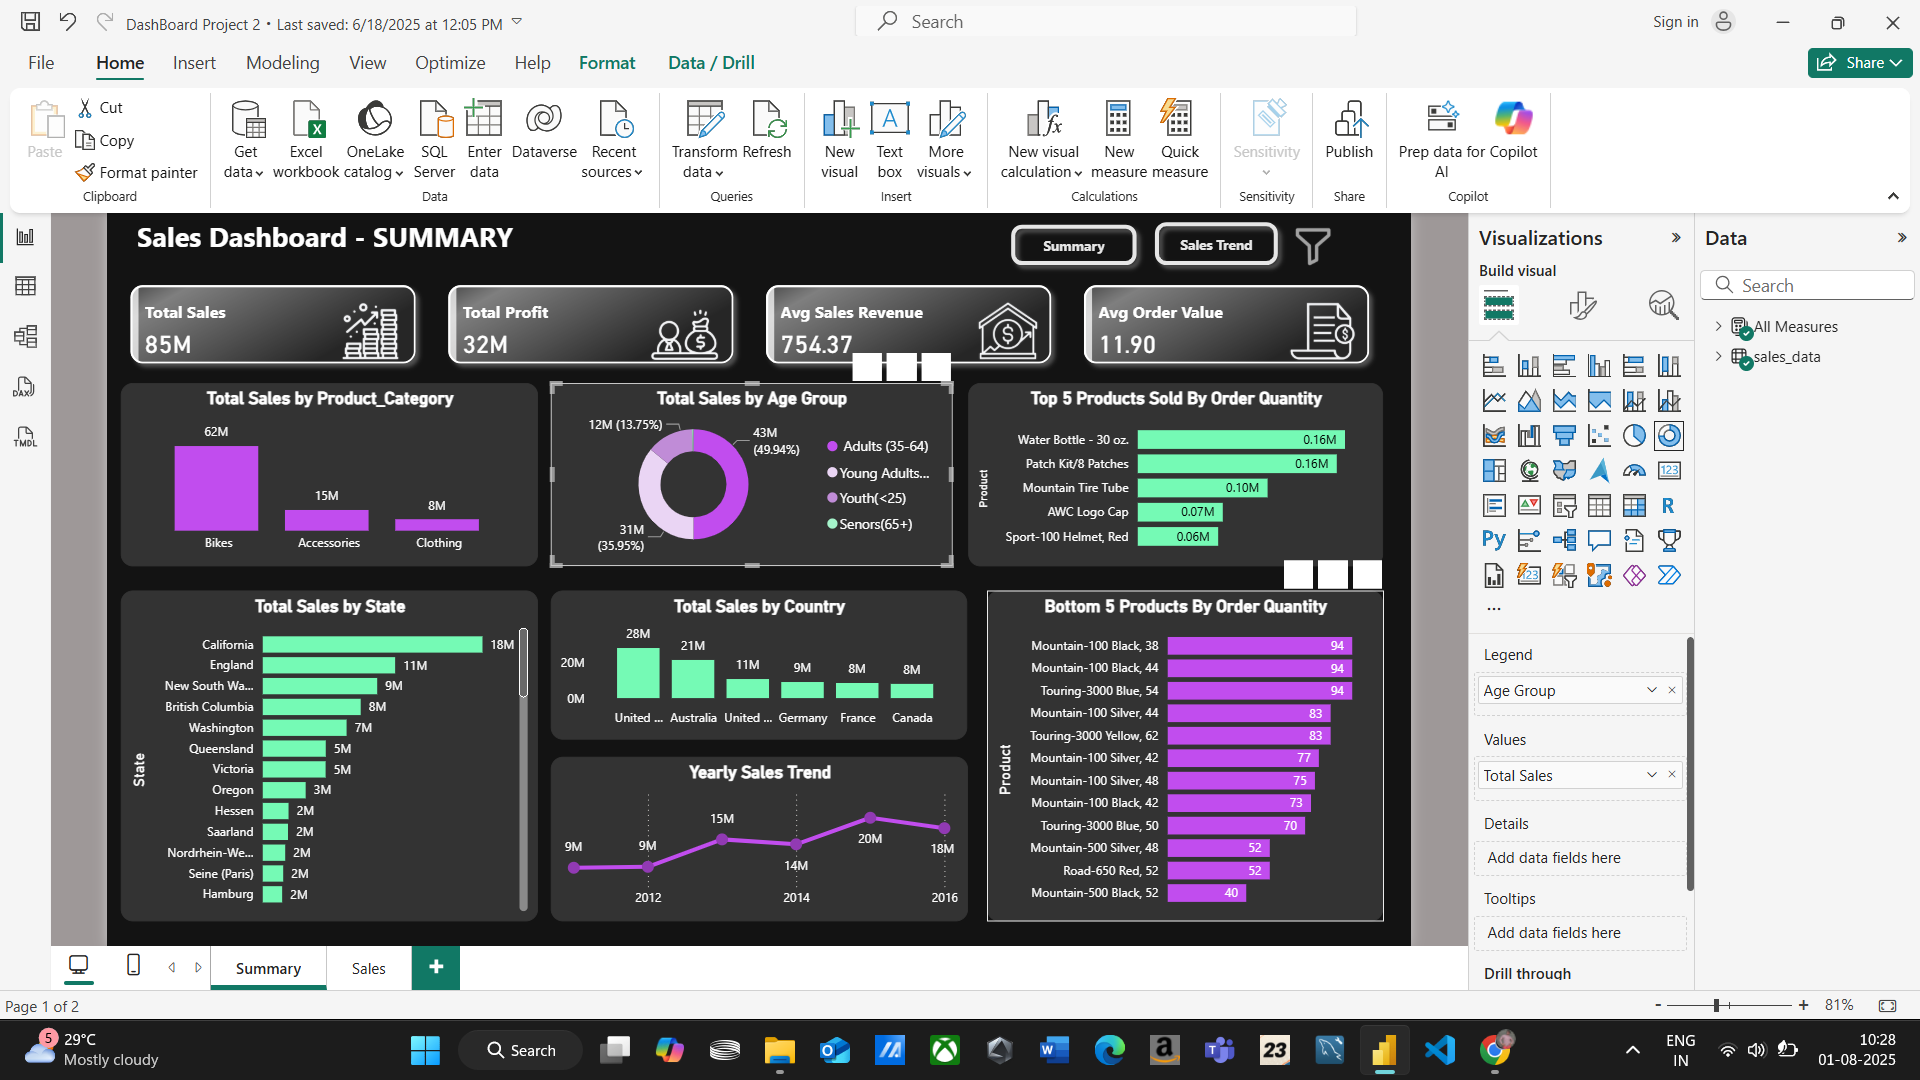

What the dashboard file says about the page in this screenshot:
{"tool":"powerbi","page":{"name":"Summary","canvas":[1280,720],"ordinal":0},"visuals":[{"type":"cardVisual","fields":{"Data":["All Measures.Total Sales","All Measures.Total Profit","All Measures.Avg Sales Revenue","All Measures.Avg Order Value"]},"box":[5.6,54.3,1253.6,111.3],"z":0},{"type":"columnChart","title":"Total Sales by Product_Category","fields":{"Y":["All Measures.Total Sales"],"Category":["sales_data.Product_Category"]},"box":[13.5,166.9,409.8,180.4],"z":1000},{"type":"lineChart","title":"Yearly Sales Trend","fields":{"Category":["sales_data.Year"],"Y":["All Measures.Total Sales"]},"box":[435.6,533.7,409.8,162],"z":2000},{"type":"barChart","title":"Top 5 Products Sold By Order Quantity","fields":{"Category":["sales_data.Product"],"Y":["Sum(sales_data.Order_Quantity)"]},"box":[845.4,166.9,407.4,180.4],"z":3000},{"type":"donutChart","title":"Total Sales by Age Group","fields":{"Y":["All Measures.Total Sales"],"Category":["sales_data.Age Group"]},"box":[435.6,166.9,393.9,180.4],"z":4000},{"type":"clusteredBarChart","title":"Total Sales by State","fields":{"Category":["sales_data.State"],"Y":["All Measures.Total Sales"]},"box":[13.5,370.6,409.8,325.2],"z":5000},{"type":"barChart","title":"Bottom 5 Products By Order Quantity","fields":{"Category":["sales_data.Product"],"Y":["Sum(sales_data.Order_Quantity)"]},"box":[863.8,370.6,389,325.2],"z":6000},{"type":"columnChart","title":"Total Sales by Country","fields":{"Y":["All Measures.Total Sales"],"Category":["sales_data.Country"]},"box":[435.6,370.6,408.6,146],"z":7000},{"type":"textbox","box":[24.5,0,411,54],"z":8000},{"type":"actionButton","box":[878.5,2.5,141.1,57.7],"z":9000},{"type":"actionButton","box":[1019.6,0,138.7,60.1],"z":10000},{"type":"image","box":[1158.3,8.6,51.5,47.9],"z":12000}]}

Visuals, with their boxes on the page's 1280x720 design canvas (x1, y1, x2, y2). These are canvas units, not pixel positions in the 1920x1080 screenshot, which may show the page scaled, cropped or inside an application window:
cardVisual - All Measures.Total Sales x All Measures.Total Profit: box(6, 54, 1259, 166)
"Total Sales by Product_Category" columnChart: box(14, 167, 423, 347)
"Yearly Sales Trend" lineChart: box(436, 534, 845, 696)
"Top 5 Products Sold By Order Quantity" barChart: box(845, 167, 1253, 347)
"Total Sales by Age Group" donutChart: box(436, 167, 830, 347)
"Total Sales by State" clusteredBarChart: box(14, 371, 423, 696)
"Bottom 5 Products By Order Quantity" barChart: box(864, 371, 1253, 696)
"Total Sales by Country" columnChart: box(436, 371, 844, 517)
textbox: box(24, 0, 436, 54)
actionButton: box(878, 2, 1020, 60)
actionButton: box(1020, 0, 1158, 60)
image: box(1158, 9, 1210, 56)
